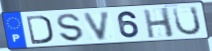6: (117, 10, 141, 39)
D: (25, 14, 55, 46)
H: (142, 6, 176, 39)
S: (56, 13, 86, 43)
U: (171, 5, 203, 37)
V: (82, 10, 113, 42)
